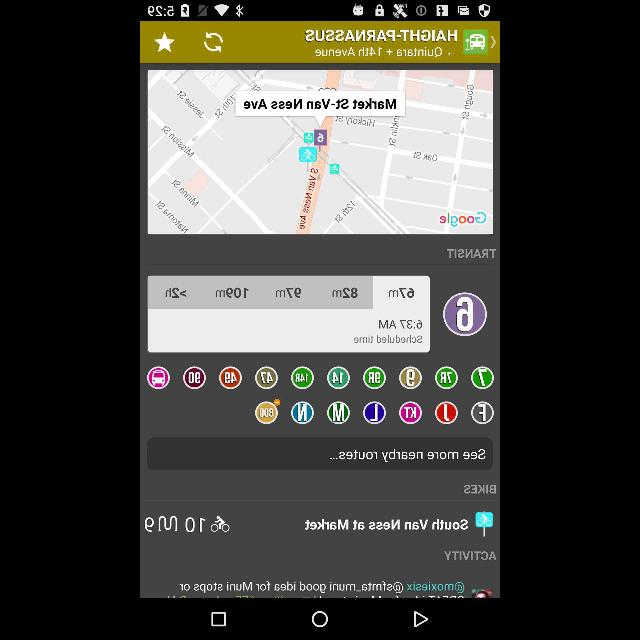icon: (203, 31, 224, 54), (154, 33, 176, 53), (158, 516, 178, 532), (312, 610, 328, 628), (212, 516, 228, 532), (414, 612, 428, 628), (212, 613, 226, 627), (490, 36, 496, 50)
image: (443, 288, 487, 338), (434, 365, 458, 391), (290, 366, 314, 390), (398, 401, 422, 425), (184, 365, 206, 391), (471, 366, 494, 390), (218, 366, 242, 389), (471, 401, 494, 425), (362, 368, 386, 390), (326, 402, 350, 424), (256, 400, 278, 424), (255, 366, 277, 389), (364, 401, 386, 424), (475, 510, 493, 538), (435, 402, 457, 424), (291, 402, 313, 424), (328, 366, 348, 390), (148, 366, 168, 390), (464, 30, 486, 51), (400, 366, 420, 388)
input: (146, 438, 494, 470)
map: (148, 68, 494, 234)
multitab: (148, 276, 430, 308)
panel: (140, 21, 500, 64), (141, 600, 499, 640), (148, 306, 428, 352)
text: (180, 580, 464, 594), (330, 449, 484, 463), (306, 28, 456, 42), (304, 520, 468, 530), (314, 47, 456, 57), (354, 335, 422, 345), (446, 247, 494, 259), (378, 318, 422, 330), (445, 552, 495, 560), (464, 485, 496, 495), (186, 516, 204, 532), (144, 516, 154, 532)
uppertaskbar: (140, 0, 500, 20)
